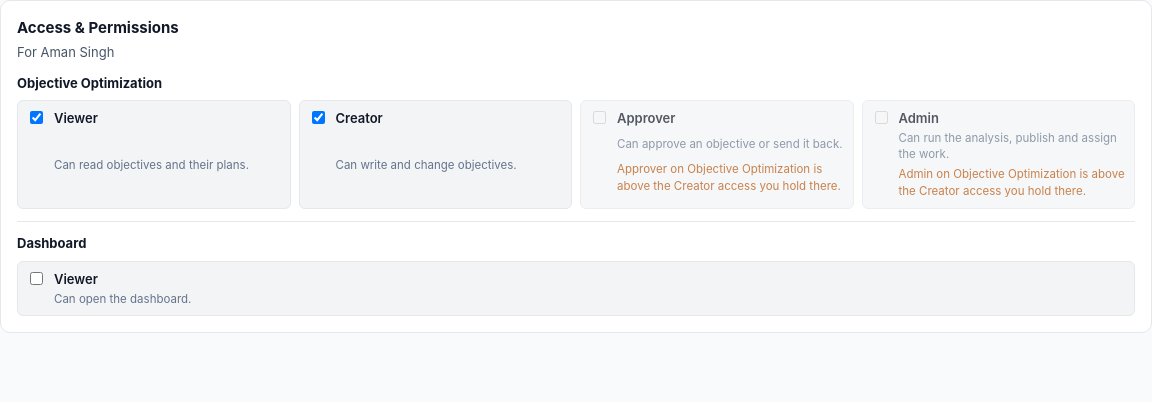
Access & Permissions › renders the server's refusal verbatim rather than paraphrasing it
expect the heading "Objective Optimization" is shown: met, box top-left (17, 75), bottom-right (162, 91)
Click the checkbox with test id "level-dashboard-Viewer" at (36, 278), box top-left (30, 272), bottom-right (43, 285)
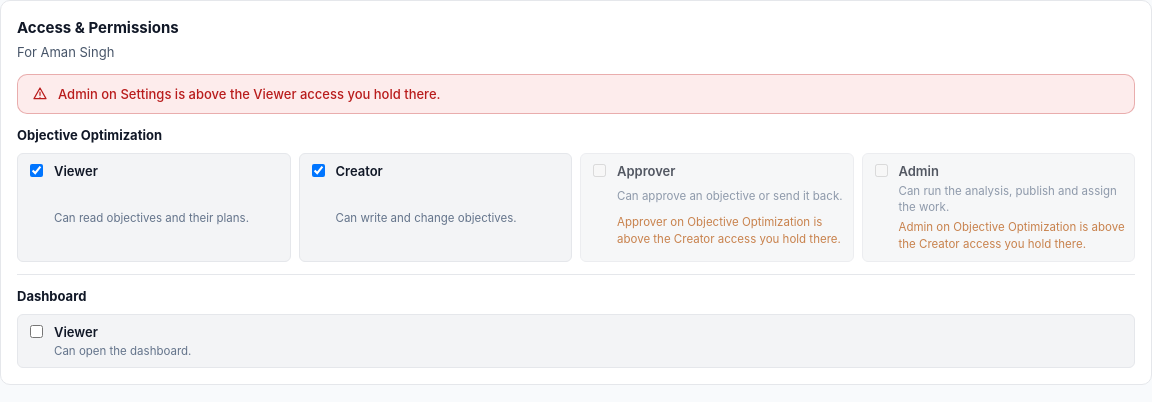
expect the text "Admin on Settings is above the Viewer access you hold there." is shown: met, box top-left (58, 85), bottom-right (440, 103)
